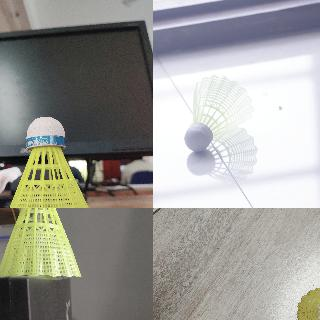shuttlecock: (0, 116, 100, 207), (0, 208, 83, 279), (184, 75, 252, 152), (298, 287, 319, 319)
